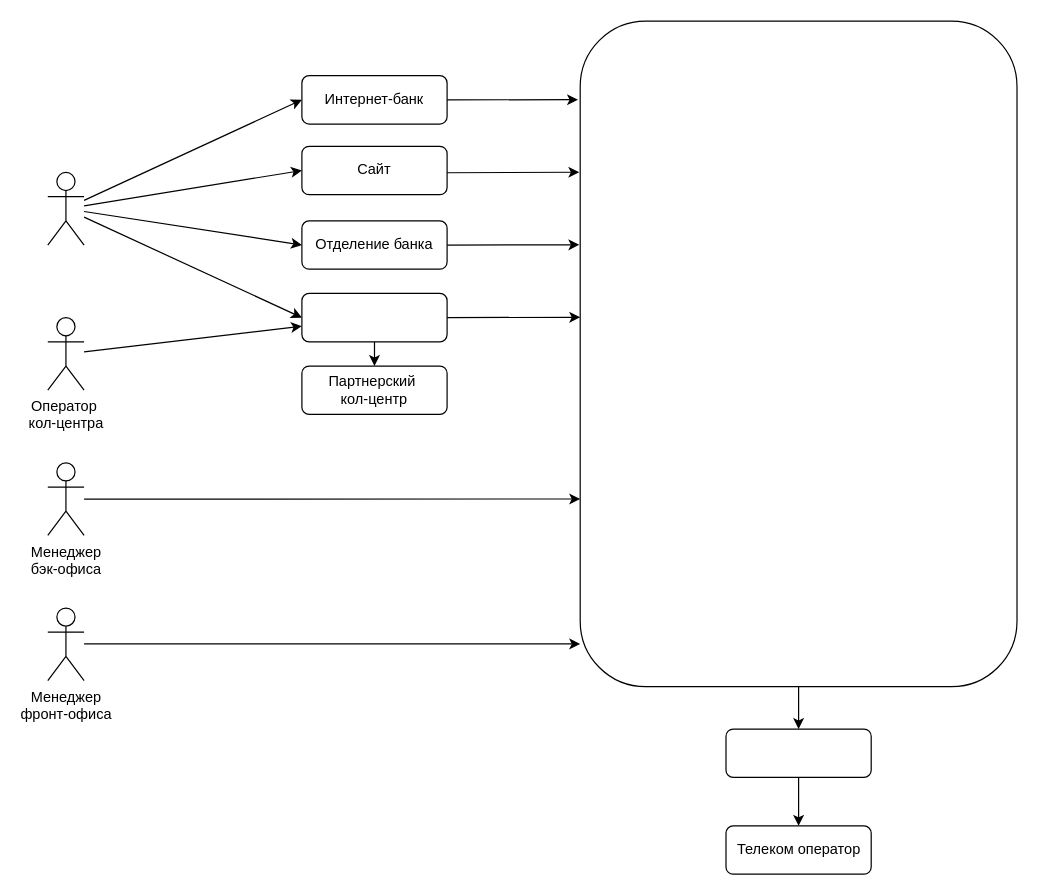
Some shapes in this 1038 by 895 pixel diagram are drawn without their labels. The shapes that lost their labels are listed below. From the top down, each one's box as (x1, y1, x2, y2) in pixels, then its label:
(47, 171, 84, 245): Клиент
(301, 292, 447, 342): Кол-центр
(579, 20, 1017, 687): Автоматизированная банковская система
(725, 728, 871, 777): СМС-шлюз
